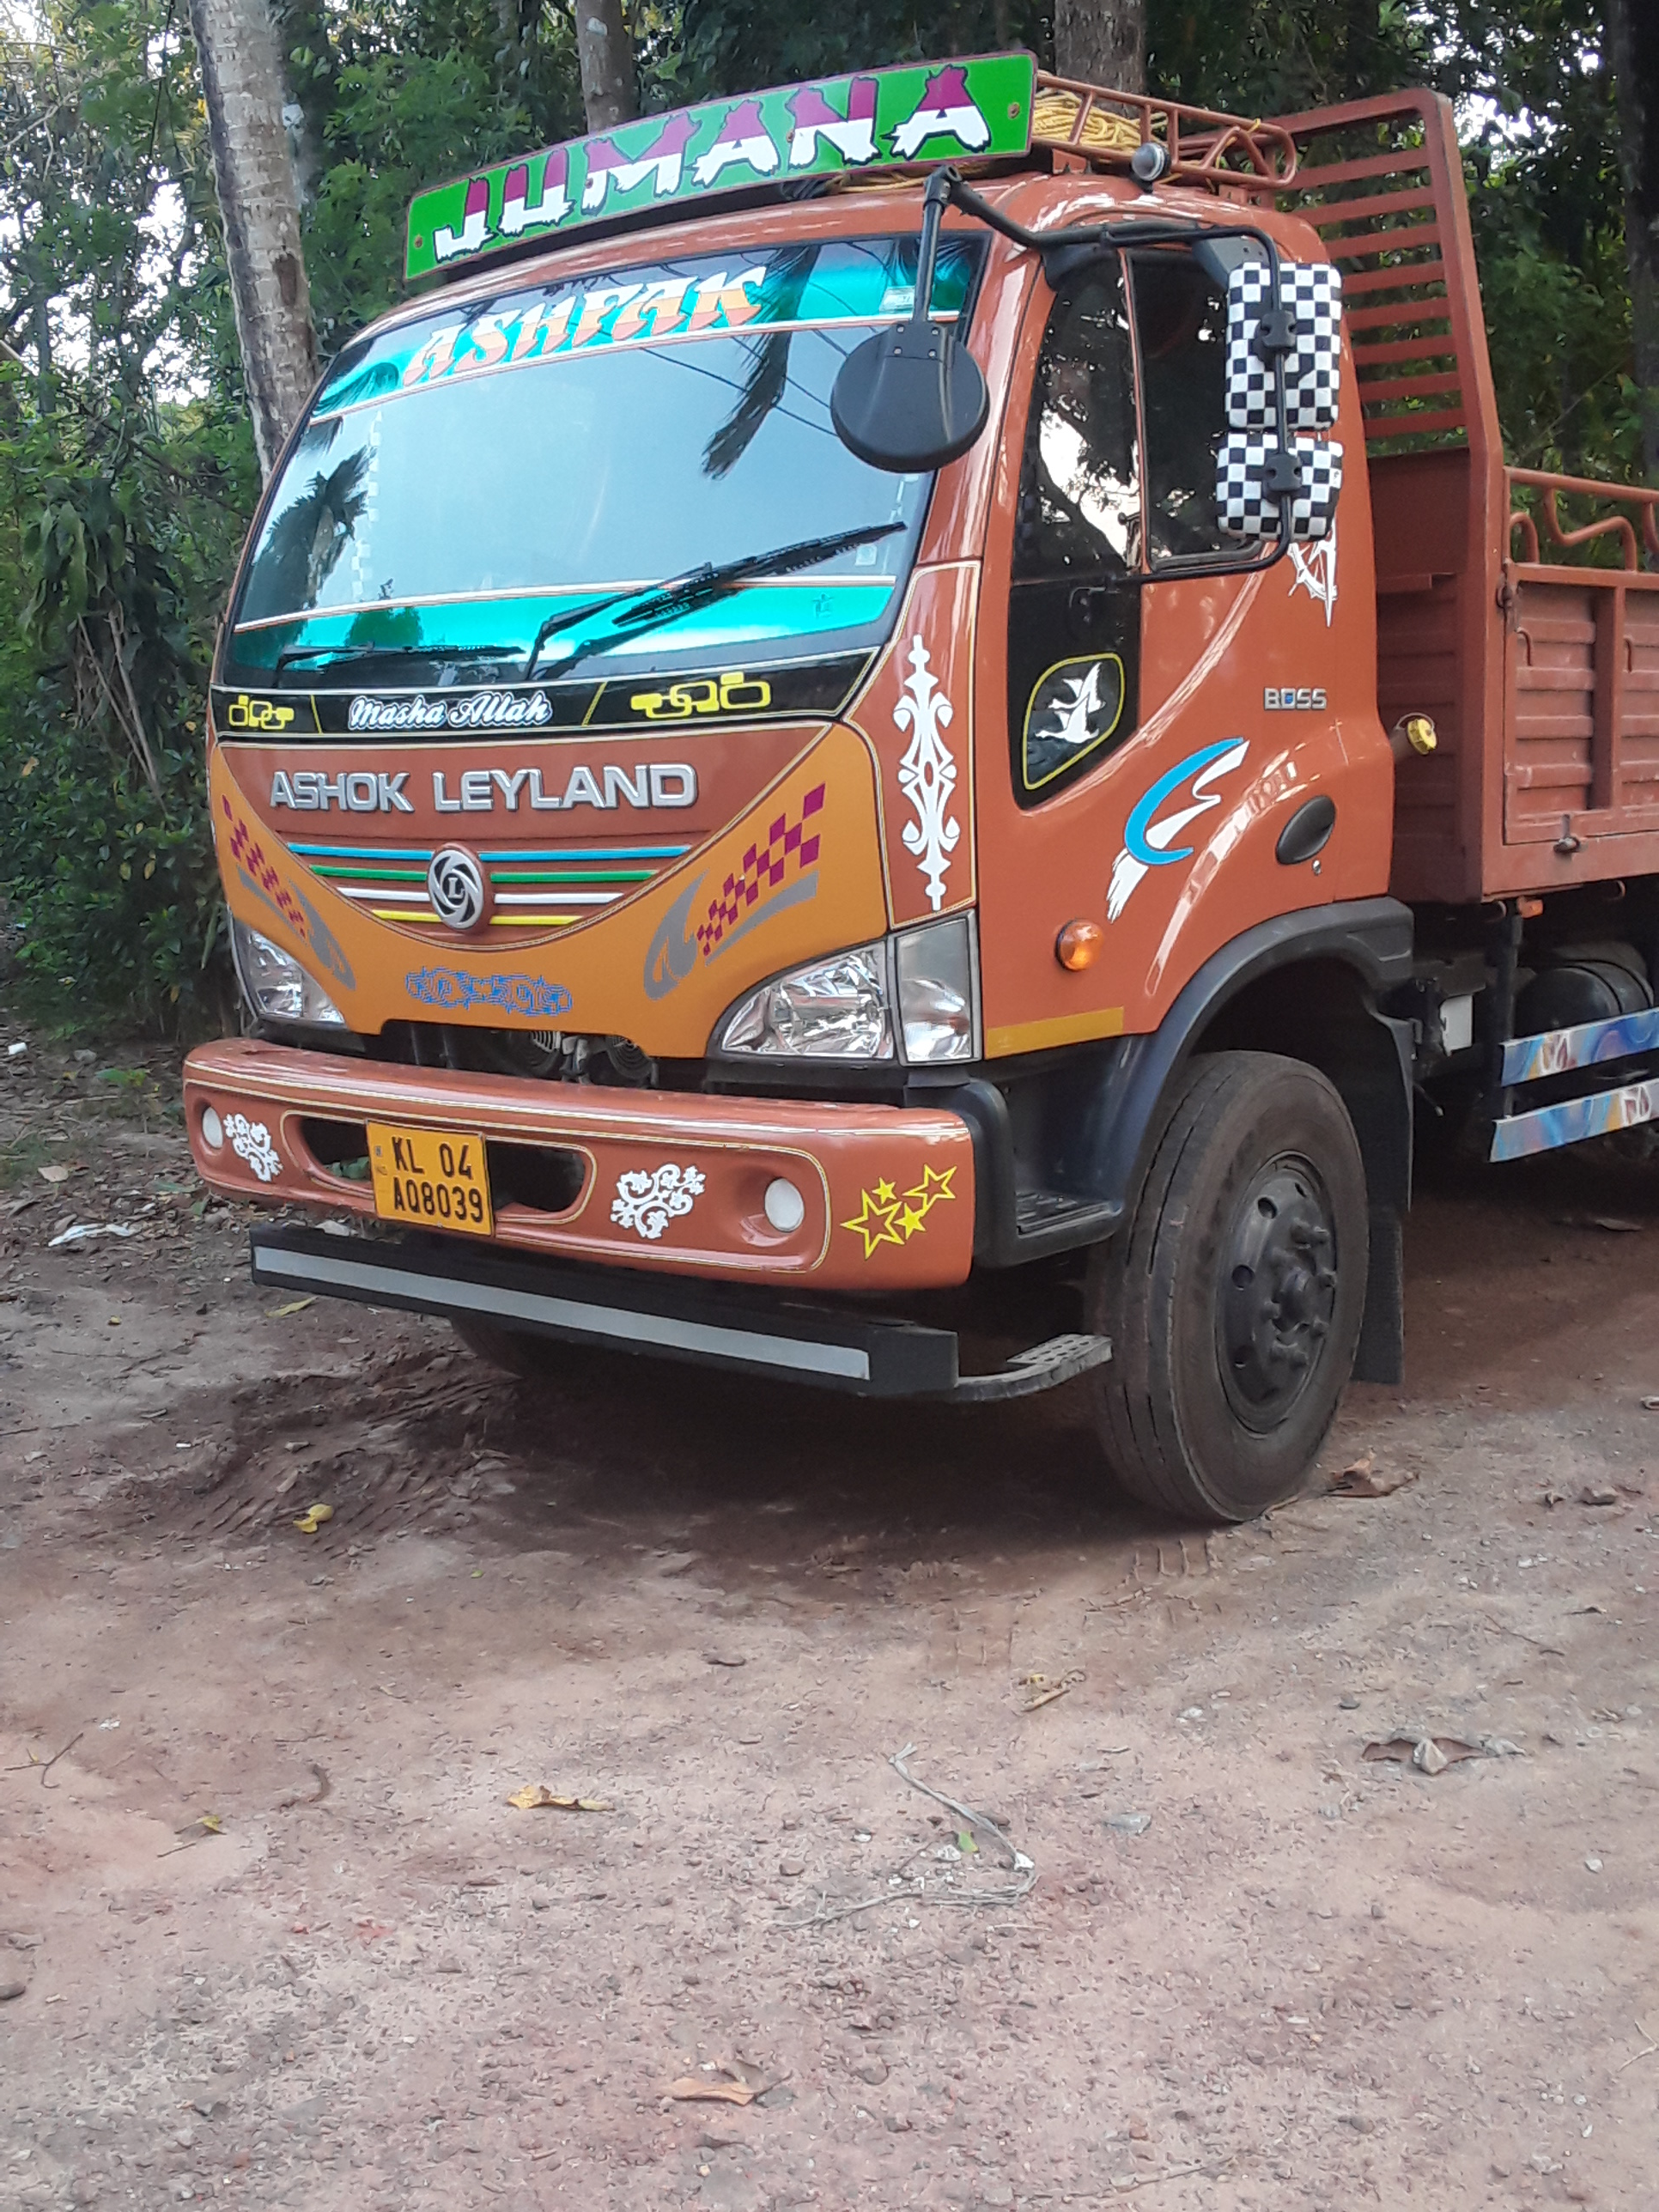truck: (173, 0, 1659, 1533)
